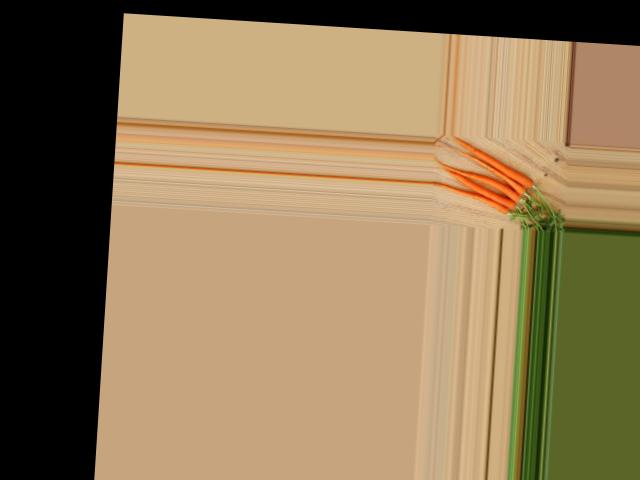carrot: (433, 181, 509, 216)
